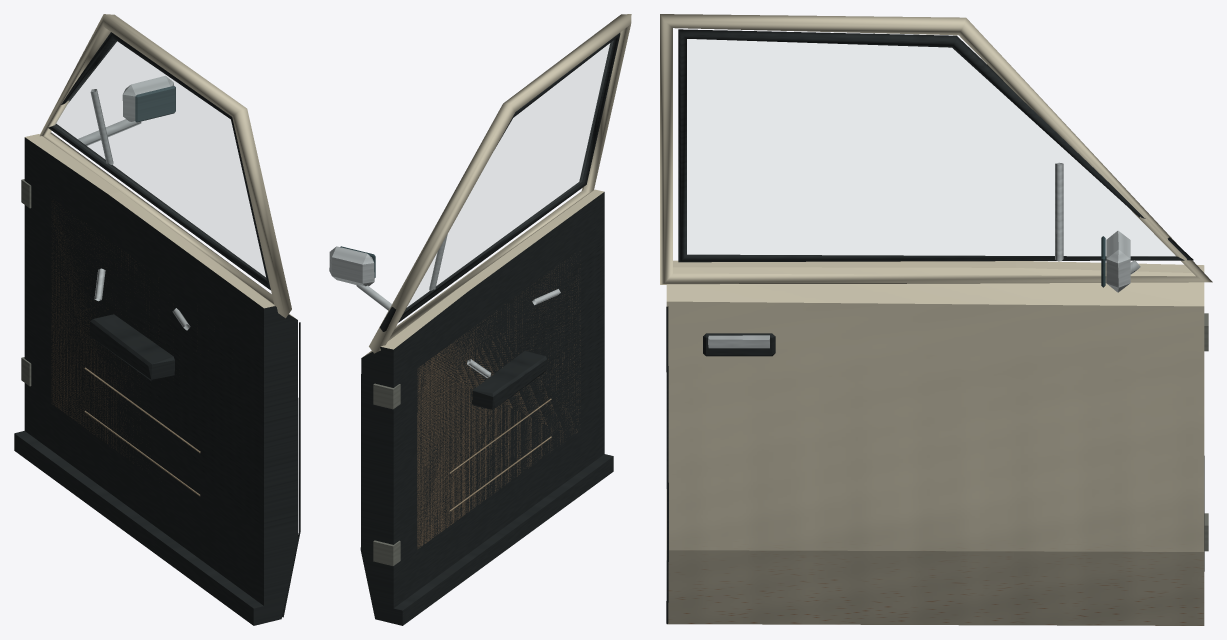
Rendered from zastava_101_door_fr.glb.
The picture shows the model from 3 angles, left to right: view 1: azimuth 30°, elevation 25°; view 2: azimuth 150°, elevation 25°; view 3: azimuth 270°, elevation 25°; orthographic projection. The views are drawn at different scales.
Visible parts, largest first — view 1: zastava_101_door_fr; view 2: zastava_101_door_fr; view 3: zastava_101_door_fr.
Part boxes in pixels (x1,y1,x2,y2): zastava_101_door_fr: (14, 14, 300, 625); zastava_101_door_fr: (329, 14, 631, 625); zastava_101_door_fr: (660, 14, 1212, 625).
Size of the model in its own units: 0.3421 by 1.2 by 1.03.
Materials: 4 (3 with a texture image).
